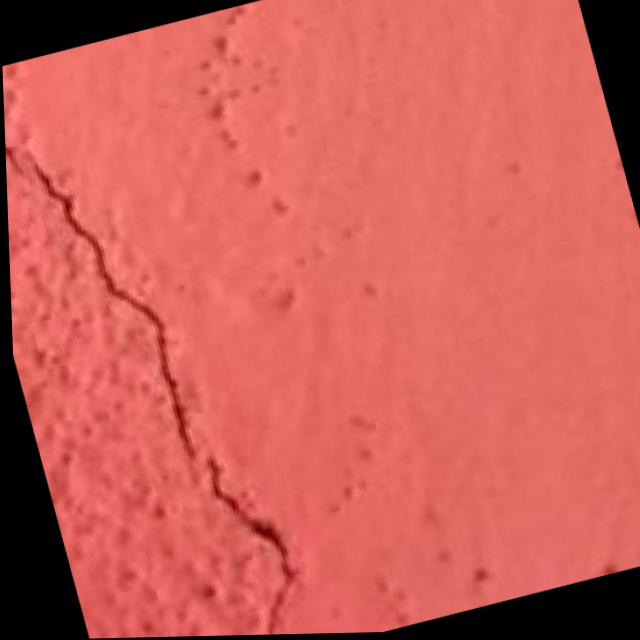Crack: (1, 22, 329, 640)
